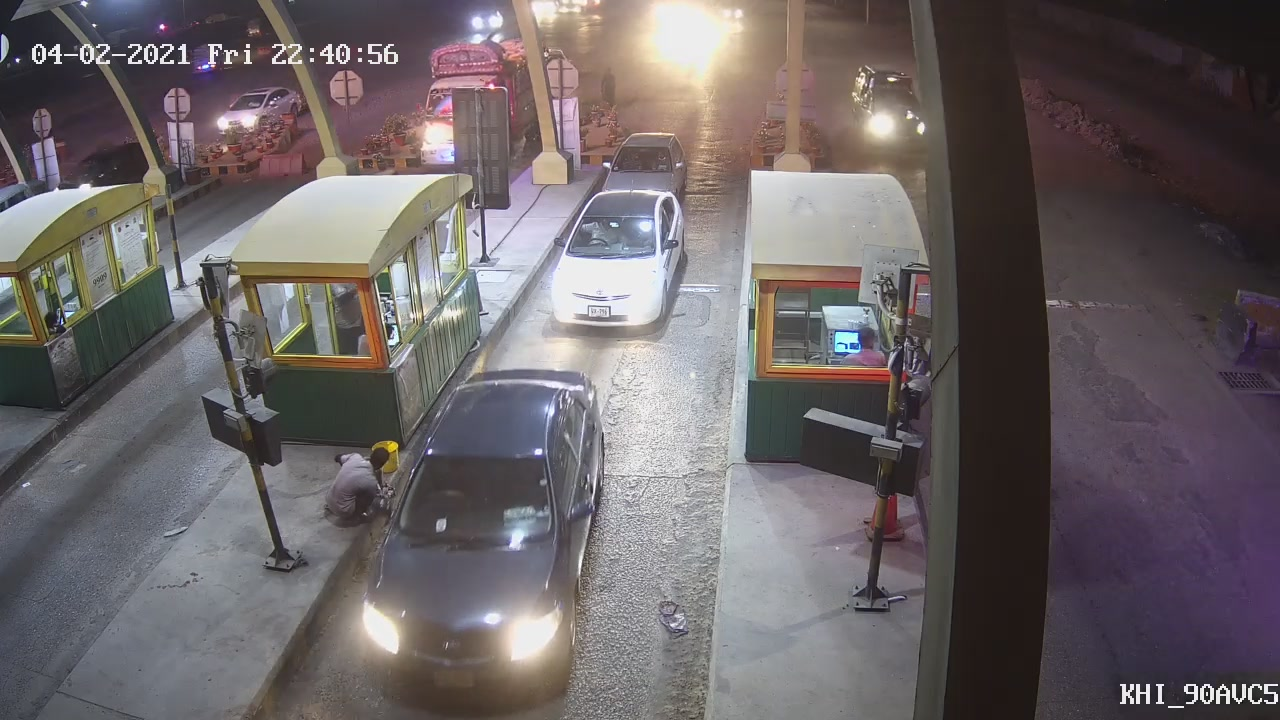F1: (365, 355, 611, 693), (549, 187, 694, 336)
